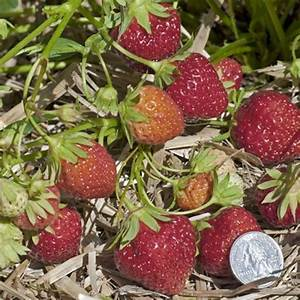Fresa: (107, 206, 202, 300), (225, 84, 300, 167), (161, 46, 229, 124), (49, 133, 122, 204), (110, 1, 187, 68), (14, 203, 90, 268), (251, 163, 300, 231)
